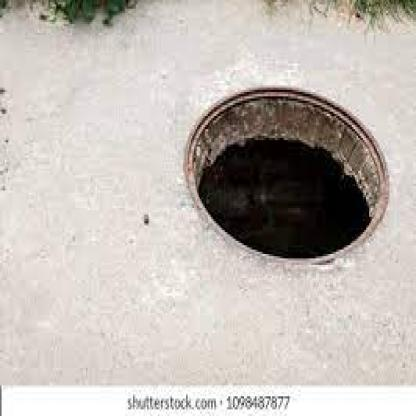open manhole-not overflowing-: (181, 79, 397, 269)
